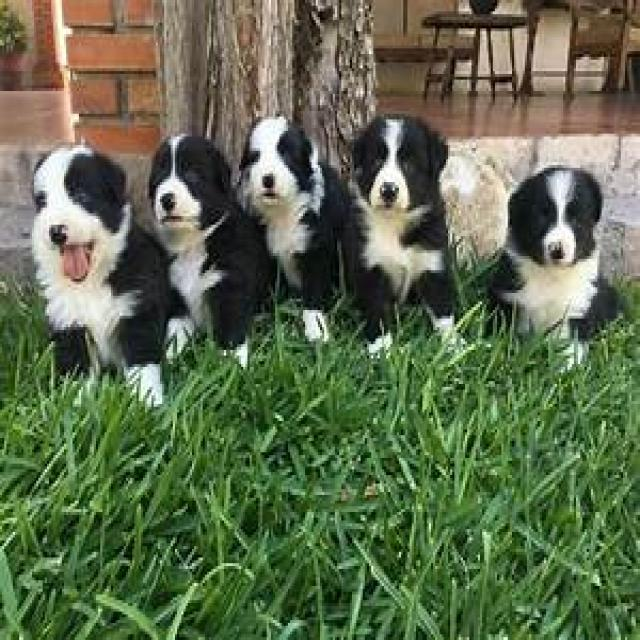dog: (28, 145, 175, 407), (145, 134, 273, 353), (346, 117, 457, 341), (491, 168, 619, 347), (239, 117, 341, 324)
